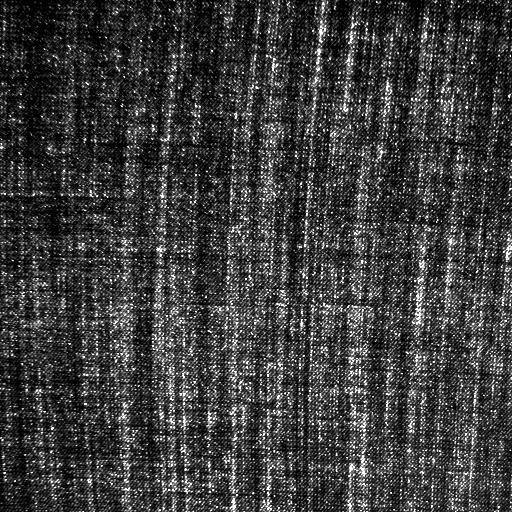fabric_perfect: (0, 6, 508, 512)
